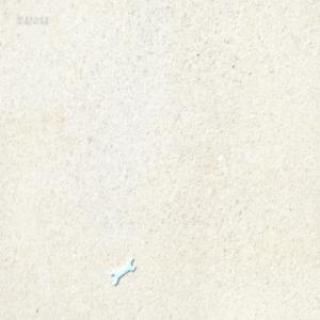Wrenchtrack_idkeyframe: (110, 255, 135, 286)
